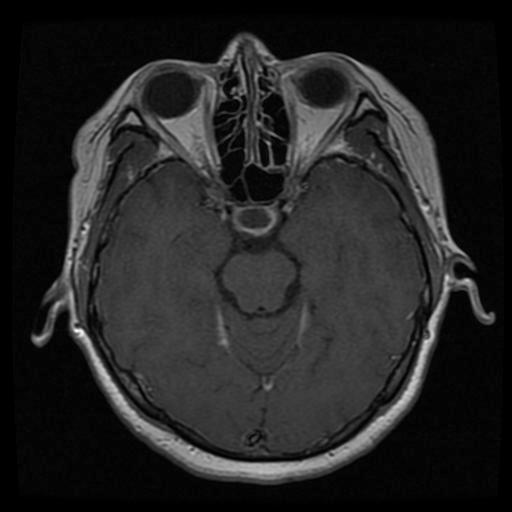Tumour-Pituitary: (205, 194, 305, 238)
